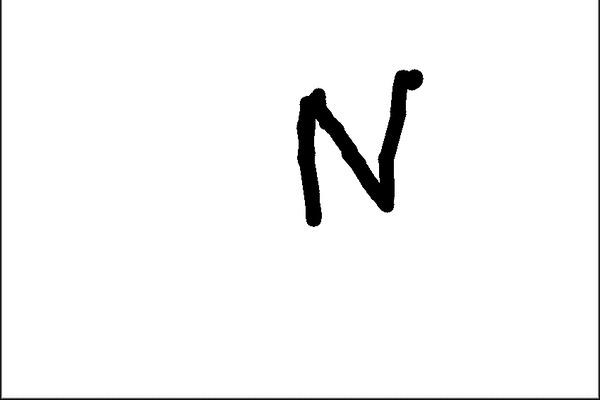N: (291, 65, 426, 230)
